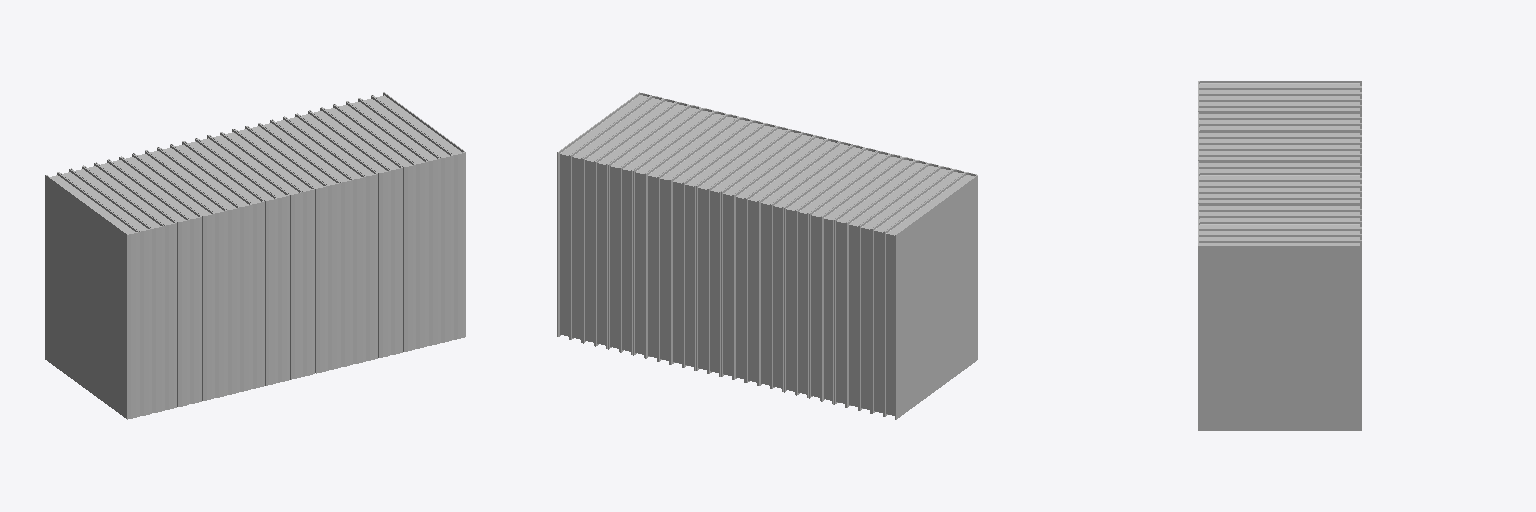
Rendered from Book_Architect.obj.
3 renders of one model, left to right at view 1: azimuth 30°, elevation 25°; view 2: azimuth 150°, elevation 25°; view 3: azimuth 270°, elevation 25°, orthographic.
Visible parts, largest first — view 1: Book_Architect.obj; view 2: Book_Architect.obj; view 3: Book_Architect.obj.
Boxes of the visible parts, x1,y1,x2,y2 form: Book_Architect.obj: [45, 92, 465, 419]; Book_Architect.obj: [557, 92, 977, 419]; Book_Architect.obj: [1198, 81, 1361, 430].
Size of the model in its own units: 0.499 by 0.26 by 0.21.